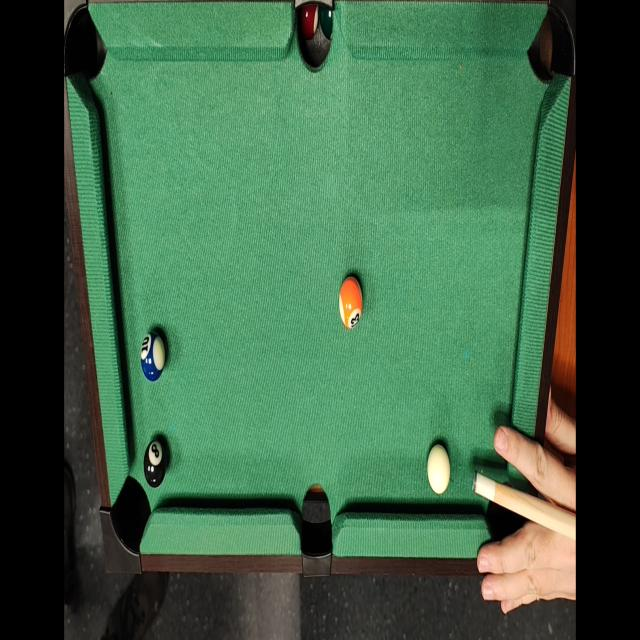cue ball: (427, 440, 451, 500)
other: (337, 274, 364, 334), (139, 328, 166, 382), (144, 436, 166, 489)
